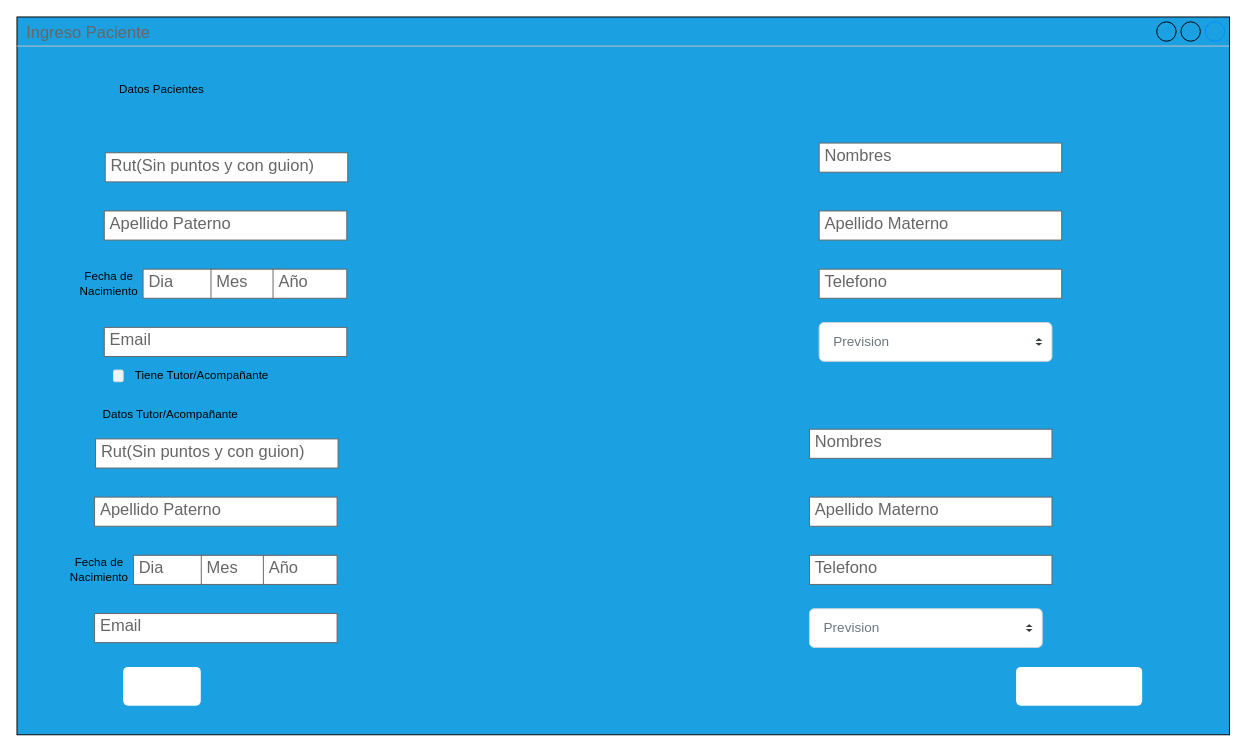
Some shapes in this 1246 by 752 pixel diagram are drawn without their labels. The shapes that lost their labels are listed below. From the top down, each one's box as (x1, y1, x2, y2) in pixels, then its label:
(123, 666, 200, 705): Volver
(1016, 666, 1142, 705): Ir a horas Disponibles
